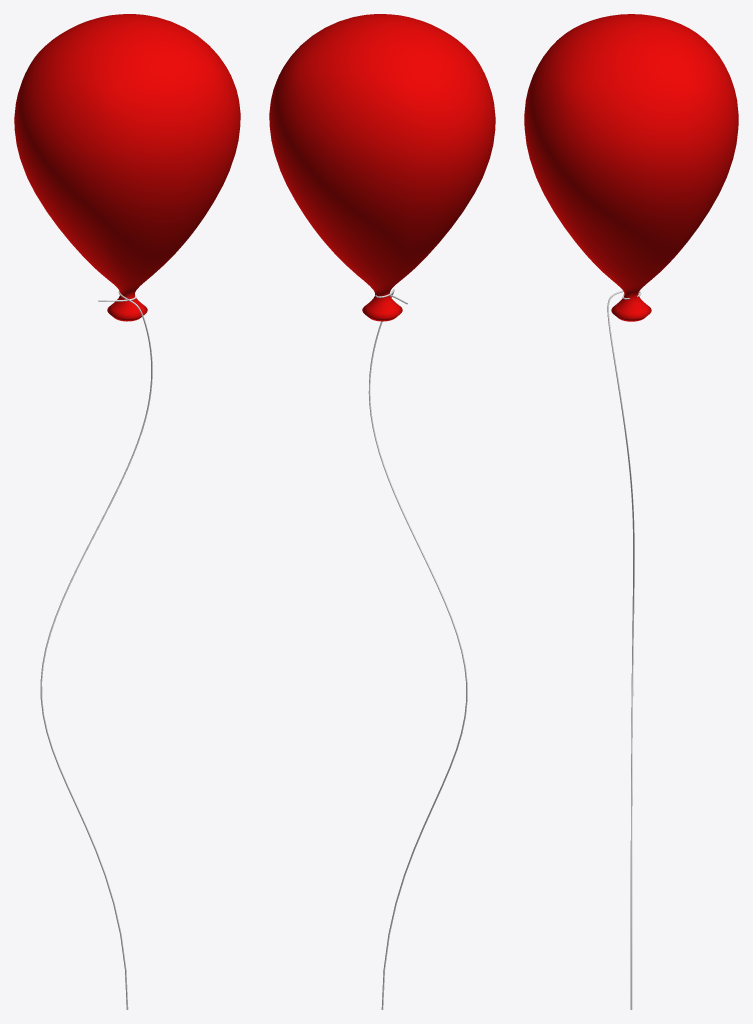
File: Baloon-red.fbx
The picture shows the model from 3 angles, left to right: view 1: azimuth 30°, elevation 25°; view 2: azimuth 150°, elevation 25°; view 3: azimuth 270°, elevation 25°; orthographic projection.
Parts seen in each view (by area): view 1: Cube_Cube.003, NurbsPath; view 2: Cube_Cube.003, NurbsPath; view 3: Cube_Cube.003, NurbsPath.
Part boxes in pixels (<box>): Cube_Cube.003: <box>14,14,240,321</box>; NurbsPath: <box>40,291,152,1009</box>; Cube_Cube.003: <box>269,14,495,321</box>; NurbsPath: <box>368,289,467,1009</box>; Cube_Cube.003: <box>524,14,738,321</box>; NurbsPath: <box>607,290,641,1009</box>.
Size of the model in its own units: 116 by 551 by 109.
